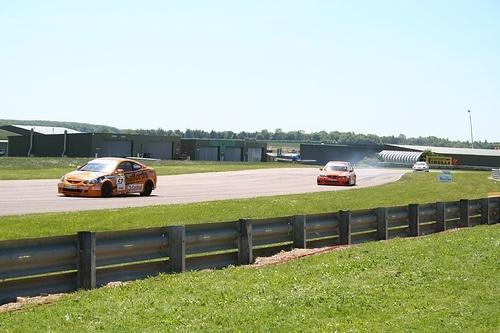car: (59, 158, 158, 198), (318, 161, 358, 186), (413, 162, 432, 173)
